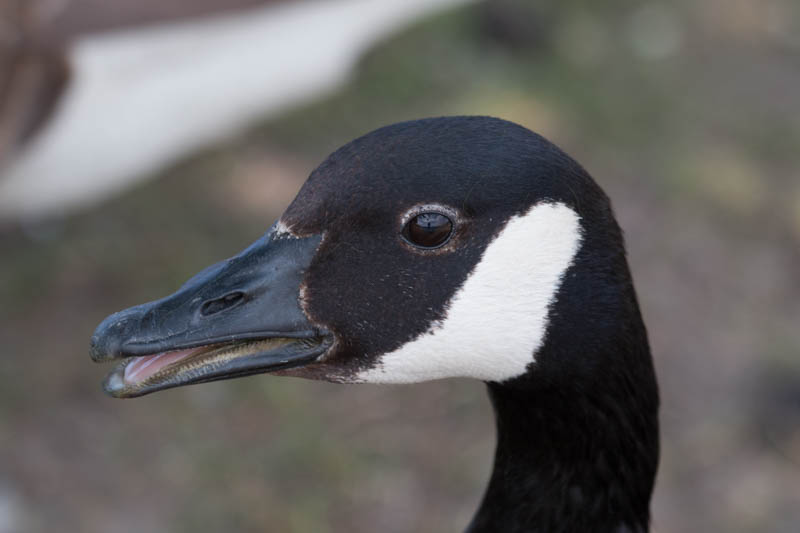goose-head: (88, 116, 658, 400)
